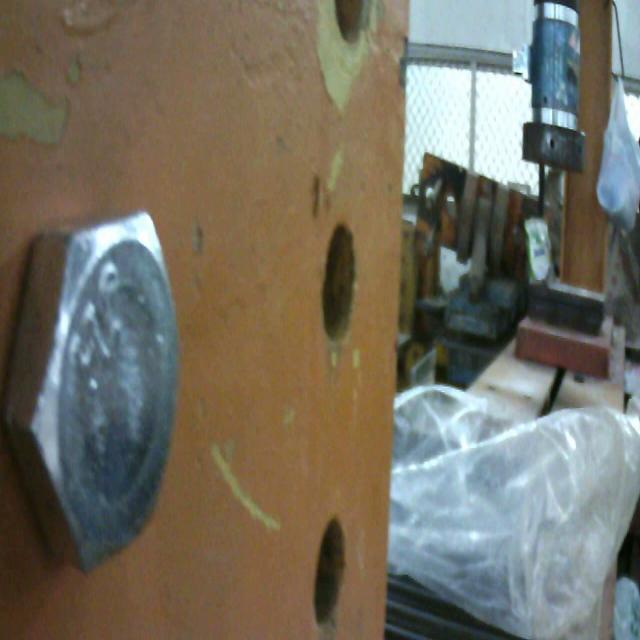Missing bolt: (323, 219, 359, 341), (313, 513, 351, 625), (332, 1, 377, 41)
Regular bolt: (1, 205, 181, 571)
